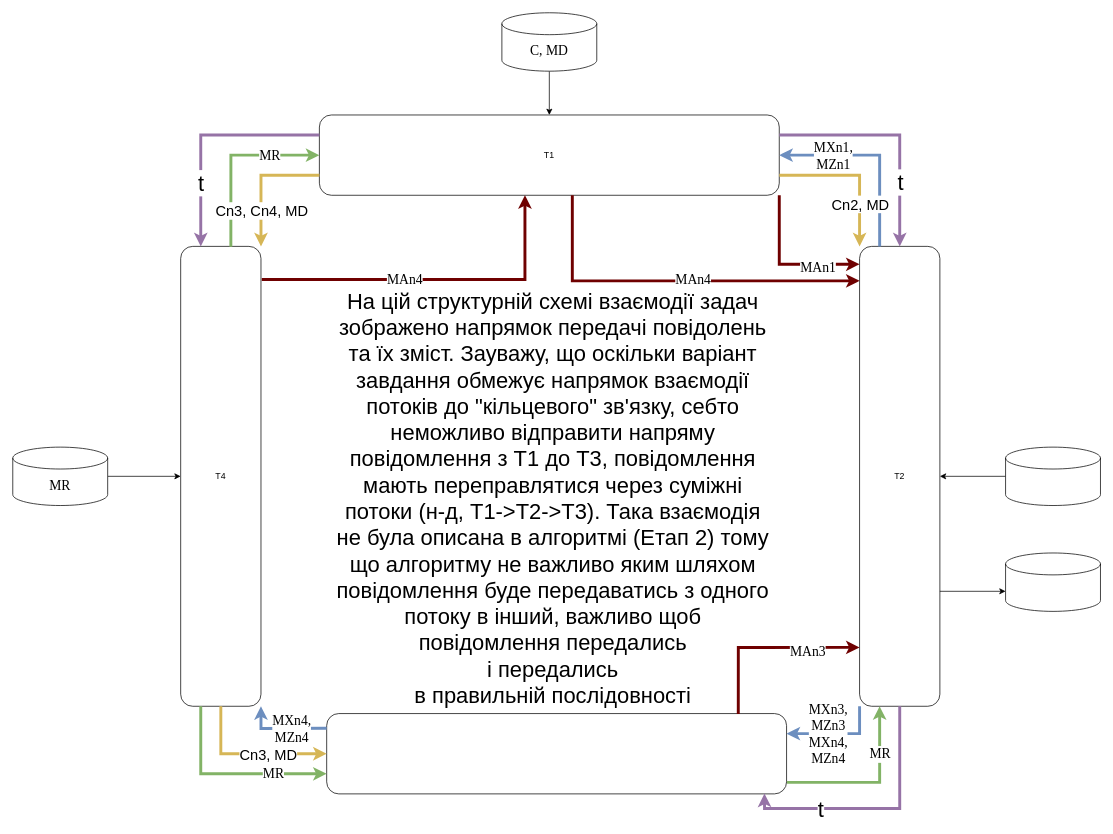
Image size: 1113x834. Some labels were removed from this diagram. Here are the shapes that lost their labels. From the top down, the centre of each, then its label:
the point at 1052,476: MX, MZ
the point at 1052,581: MA
the point at 556,753: T3
